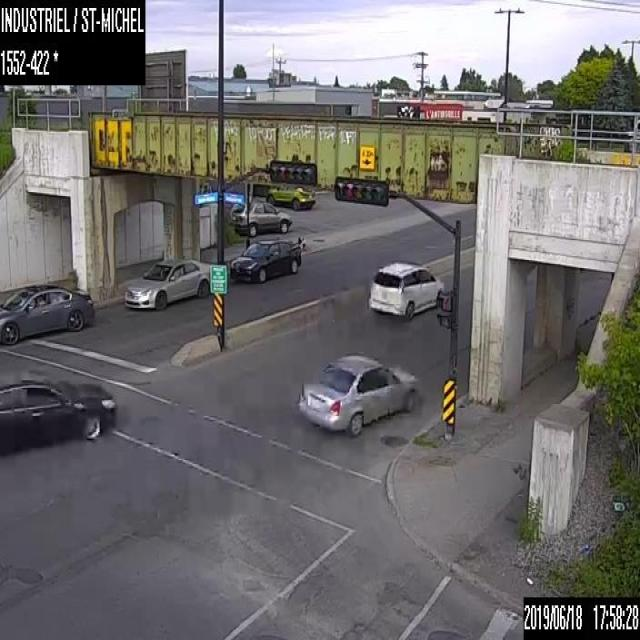vehicle: (296, 353, 419, 436), (0, 378, 117, 452), (0, 282, 93, 346), (122, 254, 209, 310), (368, 261, 443, 320), (227, 235, 300, 281), (230, 200, 291, 235), (265, 182, 315, 210)
